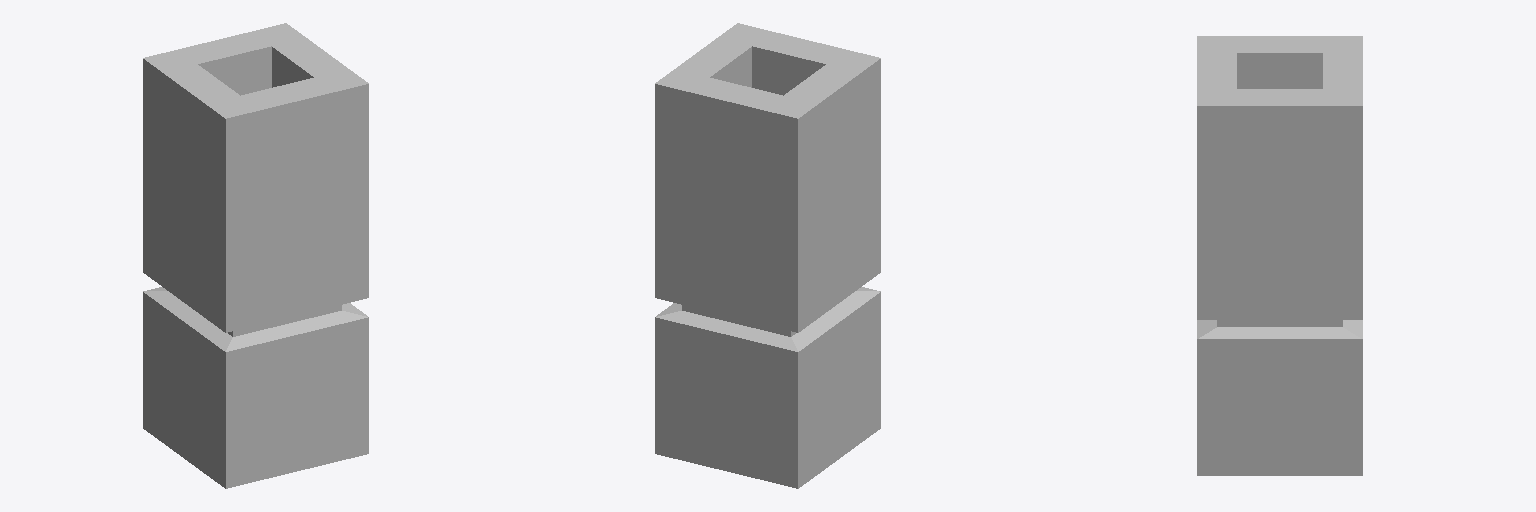
Rendered from Dark_Square_Tall_Hollow.obj.
3 views of the same model, side by side, from view 1: azimuth 30°, elevation 25°; view 2: azimuth 150°, elevation 25°; view 3: azimuth 270°, elevation 25° (orthographic).
Visible parts, largest first — view 1: Dark_Square_Tall_Hollow; view 2: Dark_Square_Tall_Hollow; view 3: Dark_Square_Tall_Hollow.
Part boxes in pixels (left/top/right/bottom): Dark_Square_Tall_Hollow: left=143, top=23, right=368, bottom=488; Dark_Square_Tall_Hollow: left=655, top=23, right=880, bottom=488; Dark_Square_Tall_Hollow: left=1197, top=36, right=1362, bottom=475.
Bounding box in the file's own units: 0.65 × 1.6 × 0.65.